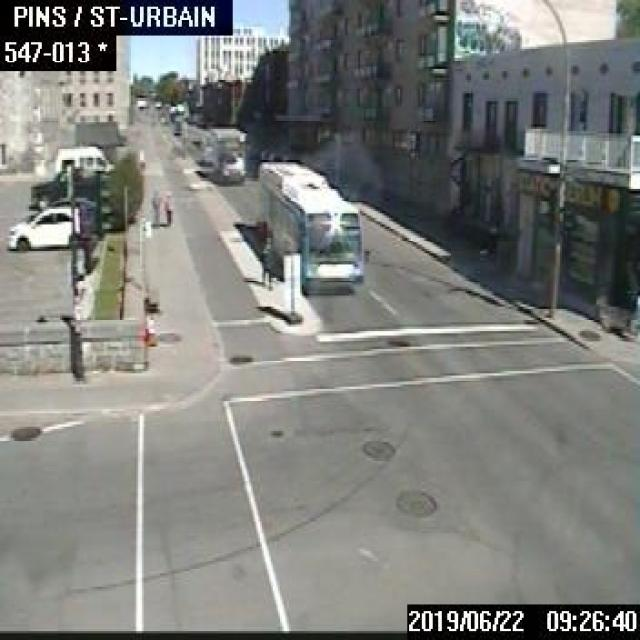bus: (259, 158, 363, 292)
pedestrian: (258, 231, 275, 289), (162, 190, 174, 227), (150, 184, 160, 227)
vehicle: (6, 204, 80, 248), (30, 169, 100, 207), (206, 126, 246, 180), (54, 143, 114, 174), (48, 194, 96, 231), (201, 144, 211, 162)
